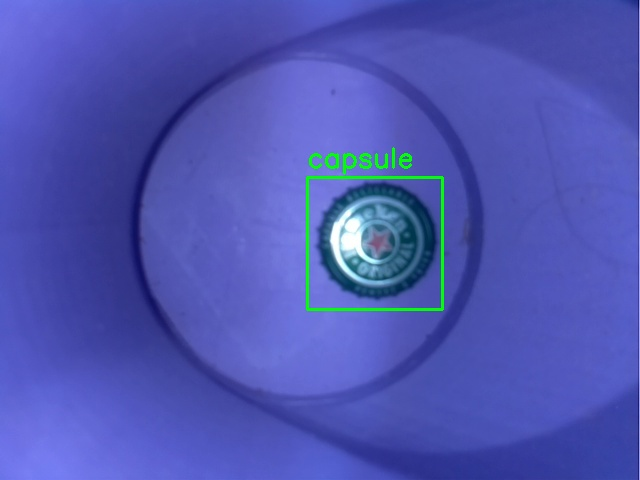capsule: (307, 177, 442, 309)
